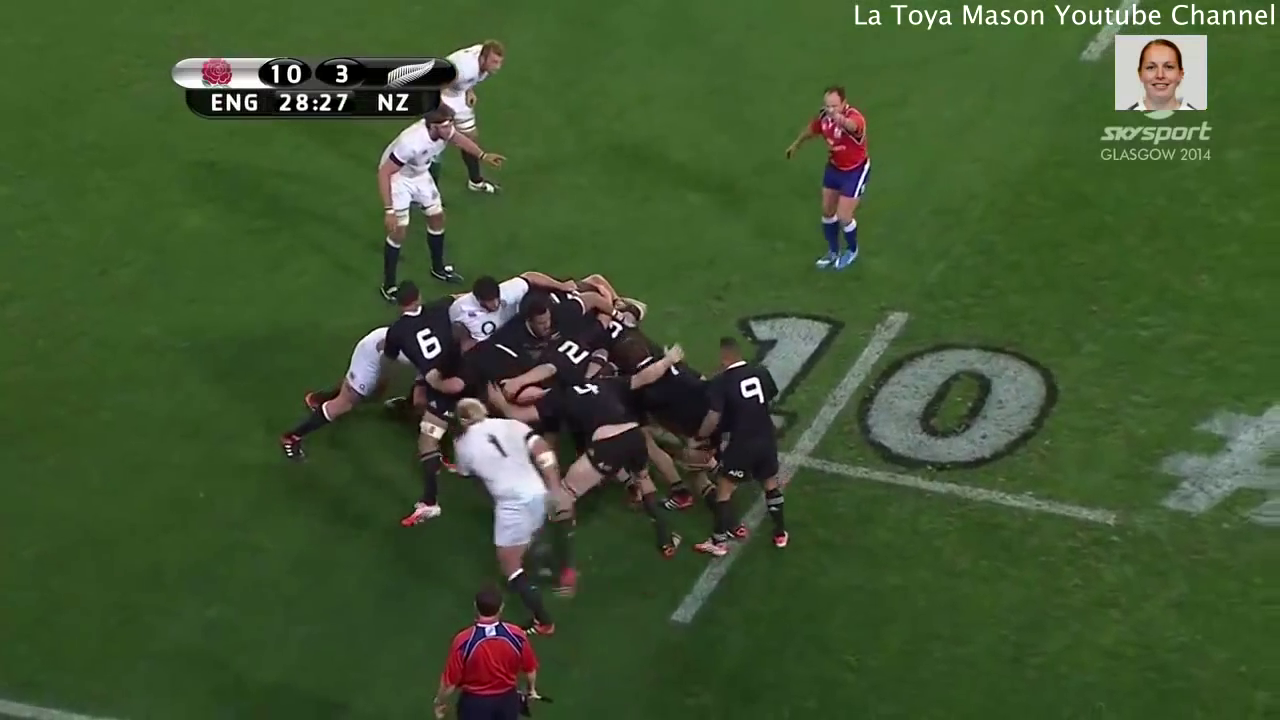10_metre: (401, 294, 1155, 635)
player: (530, 335, 693, 605), (430, 386, 571, 650), (367, 100, 513, 301), (693, 322, 801, 559), (381, 275, 473, 541), (397, 24, 528, 210), (269, 300, 409, 472), (409, 576, 562, 720), (783, 80, 873, 287), (489, 268, 594, 340), (445, 254, 525, 348)
